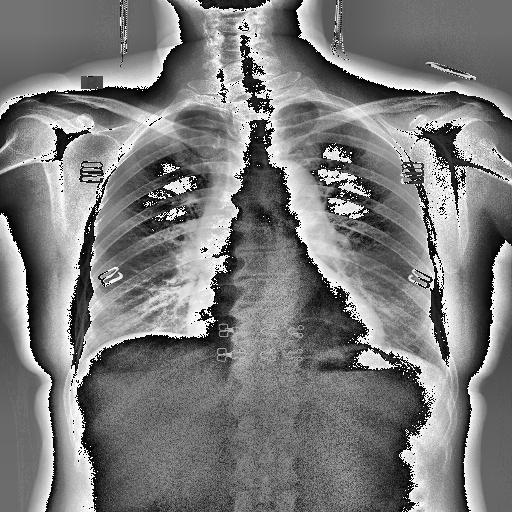0- Aortic enlargement: (258, 162, 324, 228), (265, 162, 325, 222), (262, 160, 324, 218)
3- Cardiomegaly: (182, 284, 388, 350), (188, 309, 386, 355)
